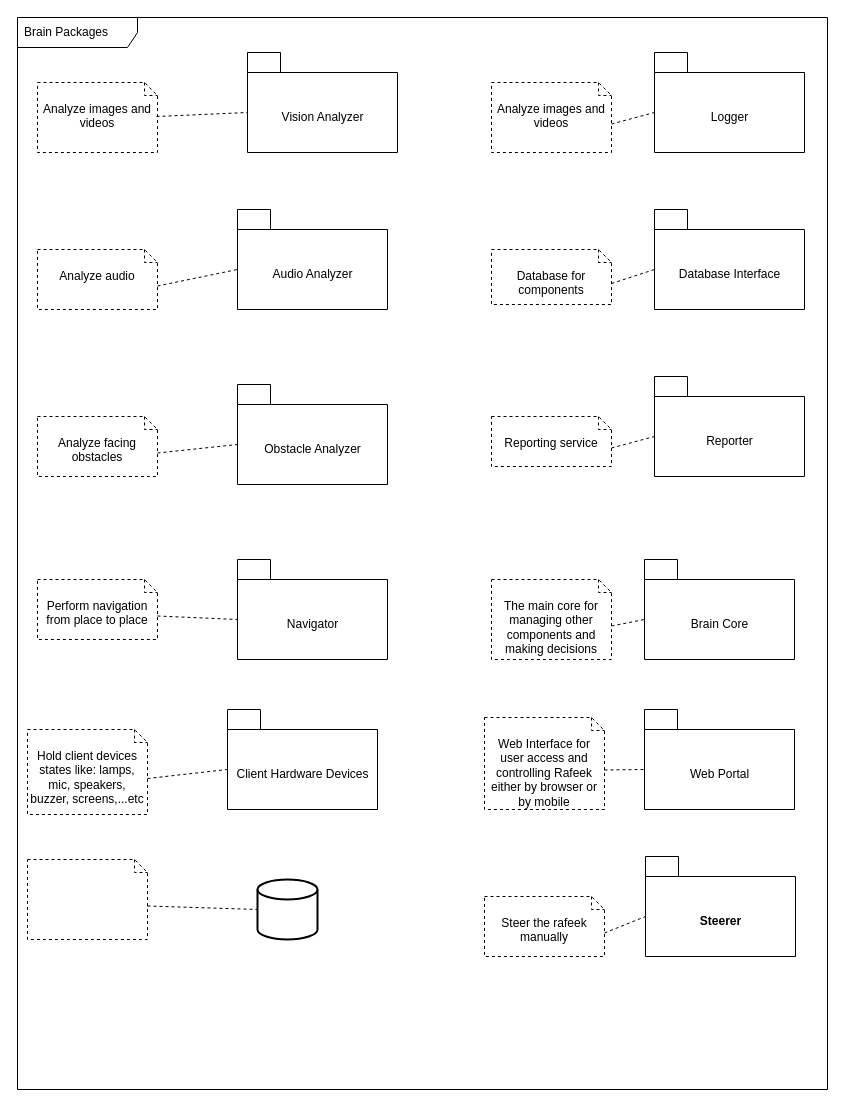
The diagram is 845 pixels wide and 1107 high, and some of its shapes have lost their labels. Each missing label, with the centre of its shape:
"Database" belongs at (x=287, y=909).
"Database can either be local per module or global (not recommended)" belongs at (x=87, y=899).
